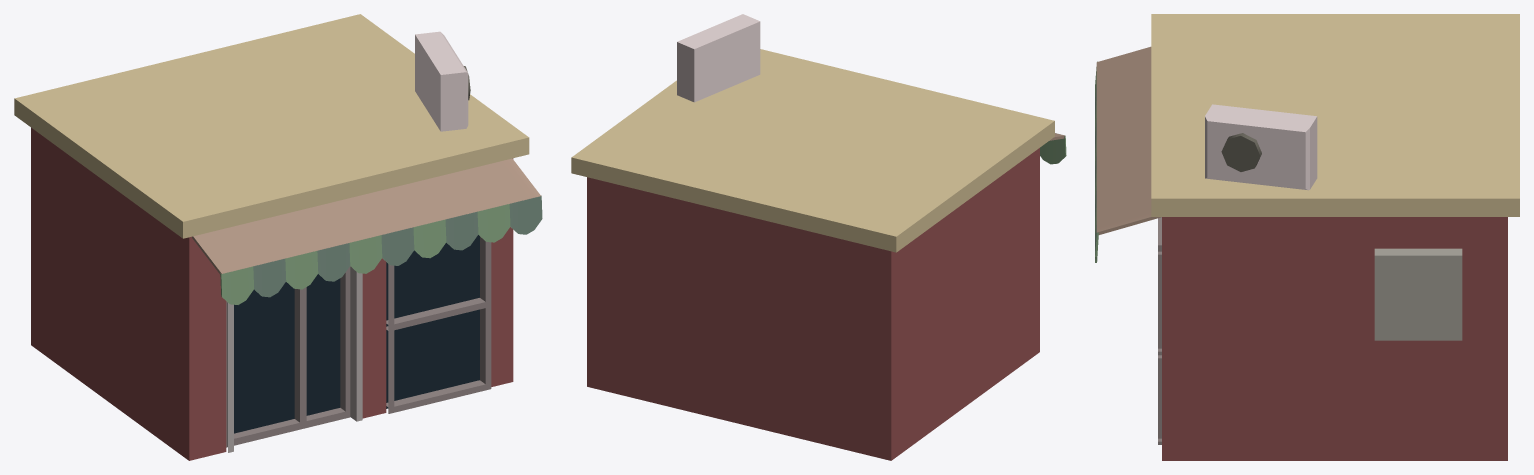
File: CountryStore02.fbx
3 renders of one model, left to right at view 1: azimuth 30°, elevation 25°; view 2: azimuth 150°, elevation 25°; view 3: azimuth 270°, elevation 25°, orthographic. The views are drawn at different scales.
Parts seen in each view (by area): view 1: CountryStore02; view 2: CountryStore02; view 3: CountryStore02.
Boxes of the visible parts, <box> form: CountryStore02: <box>14,14,542,460</box>; CountryStore02: <box>571,14,1066,460</box>; CountryStore02: <box>1095,14,1519,460</box>.
Size of the model in its own units: 86.2 by 83.36 by 71.57.
